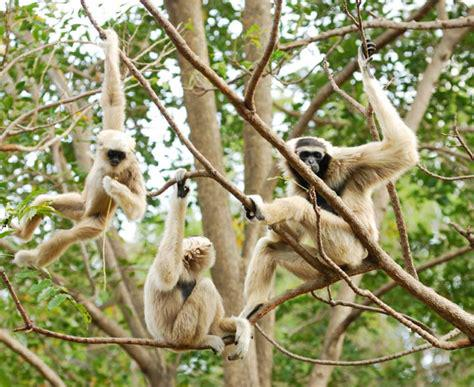monkey: (246, 39, 419, 311), (12, 30, 145, 266), (143, 172, 252, 359)
